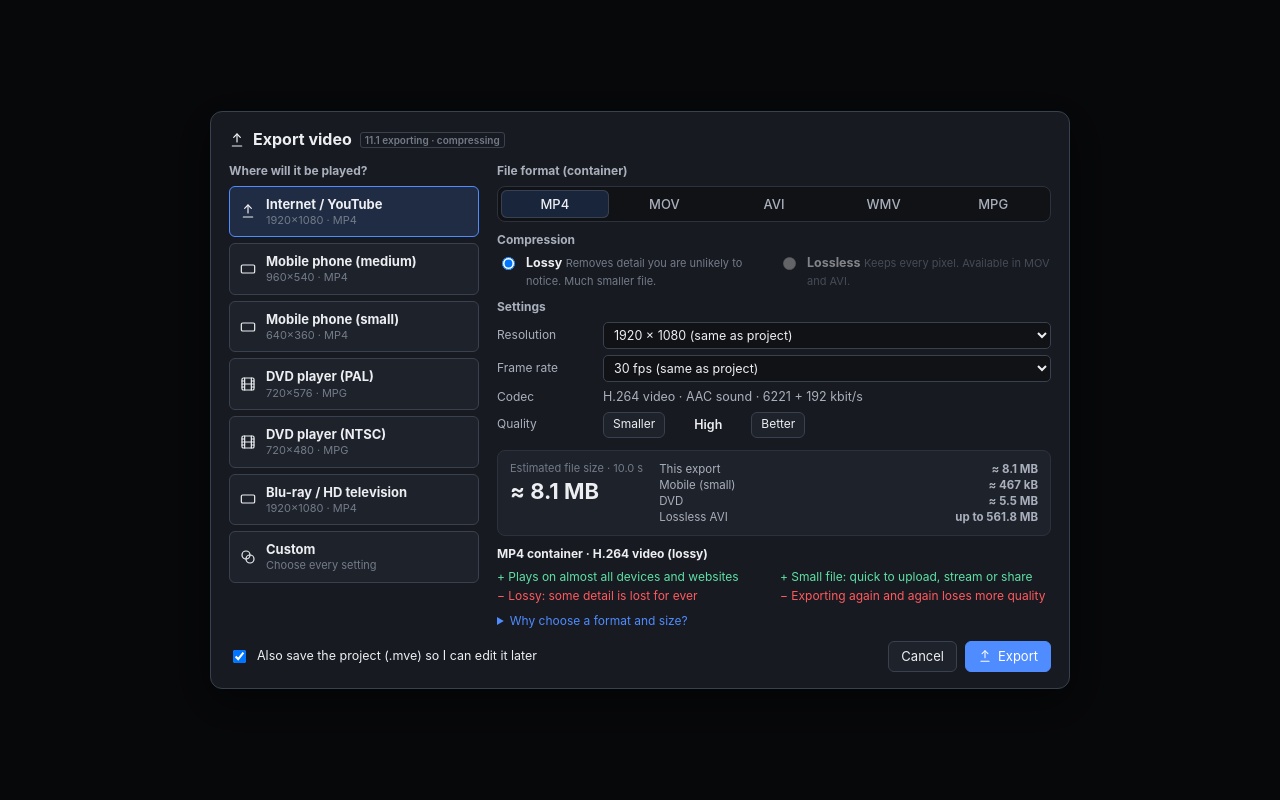
Test case: export dialog › DVD: MPG, 720 × 576 at 25 fps; MPG has no lossless option
Click the button "DVD player (PAL) 720×576 · MPG" at (354,384), box [229,358,479,410]
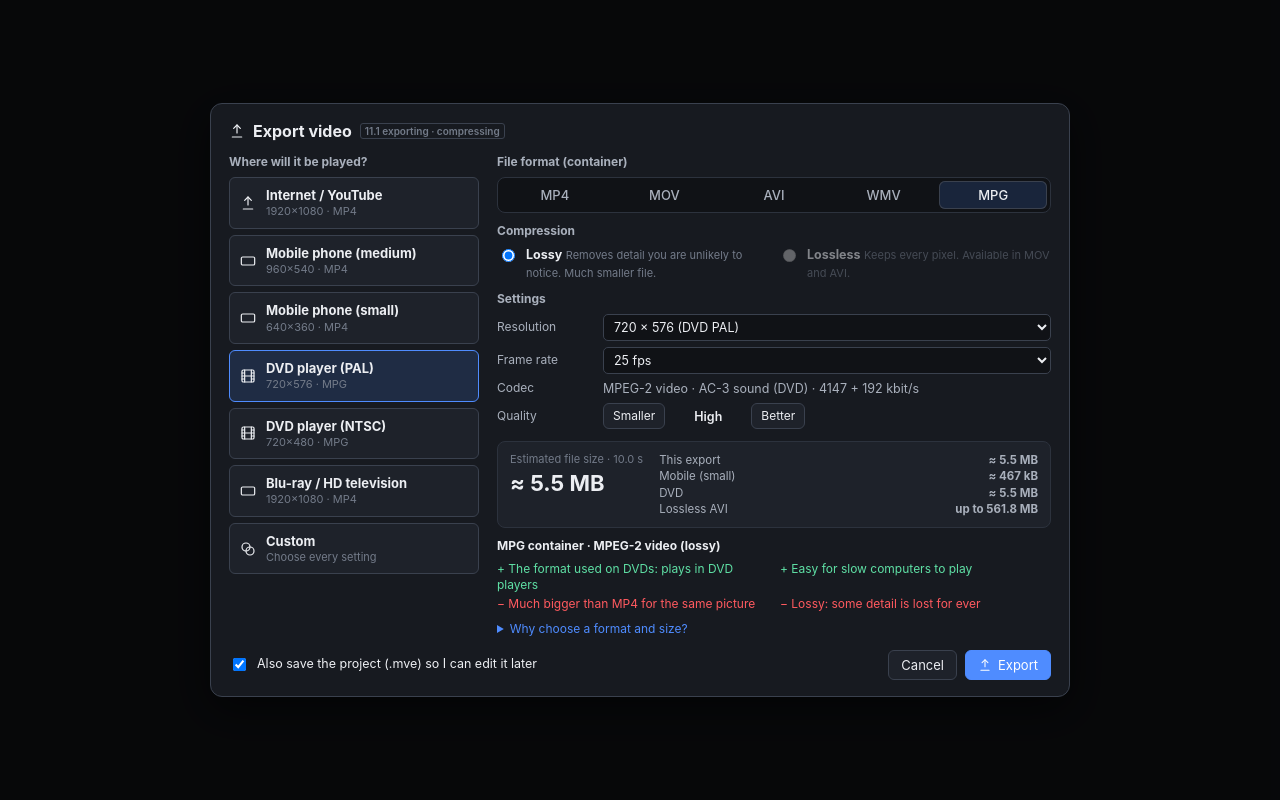
Expected: the radio button labelled "Lossless" is disabled, [783,249,796,262]
Expected: the dropdown labelled "Resolution" shows "720 × 576 (DVD PAL)", [603,314,1051,341]
Expected: the dropdown labelled "Frame rate" shows "25 fps", [603,347,1051,374]
